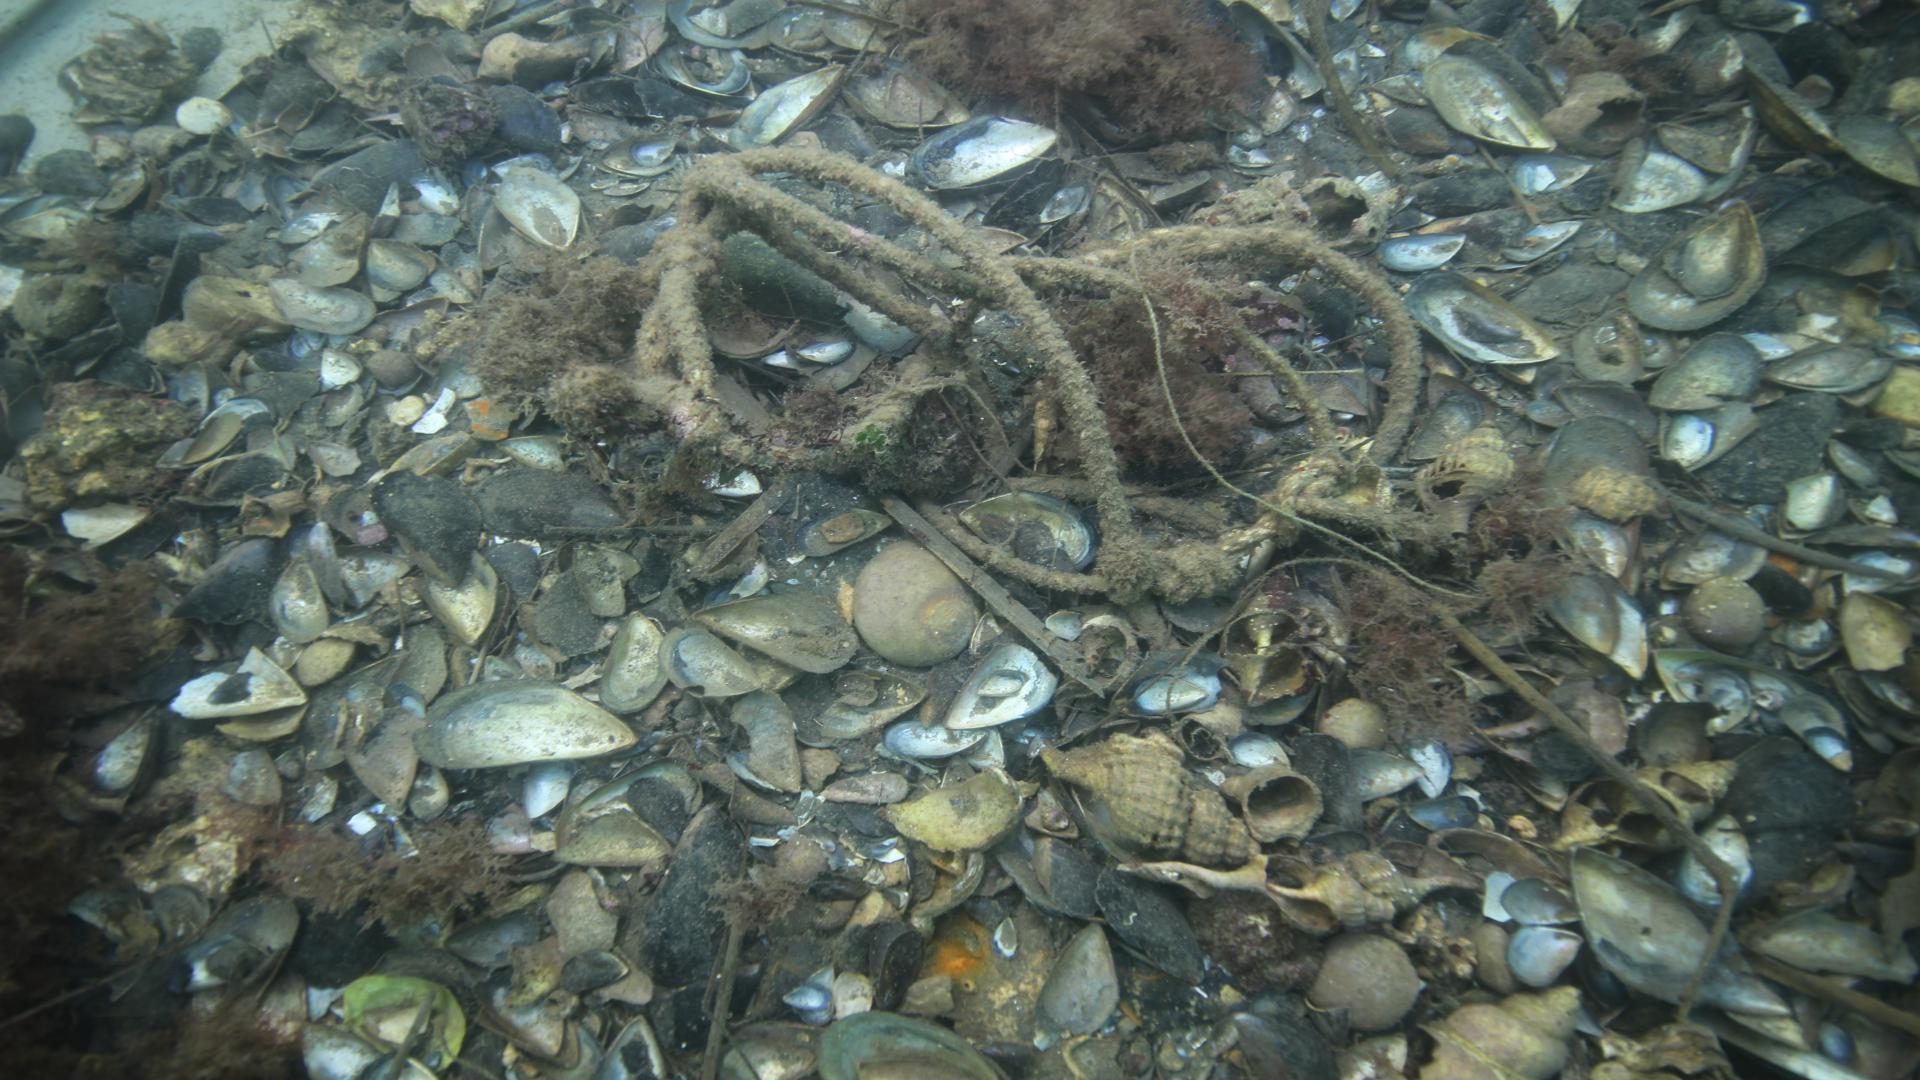bundle of ropes: (632, 141, 1425, 607)
